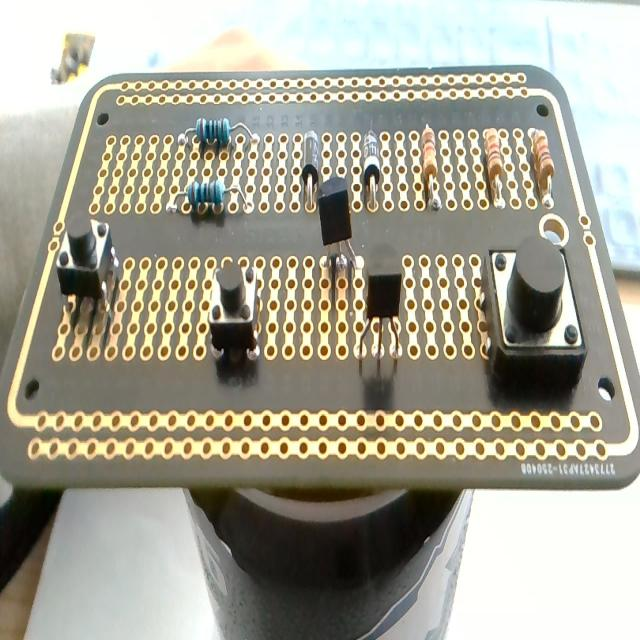diode: (300, 128, 322, 213), (362, 126, 382, 213)
resistor: (165, 175, 246, 214), (178, 117, 256, 155), (530, 128, 555, 208), (483, 126, 505, 209), (421, 124, 440, 211), (196, 117, 231, 149)
switch: (480, 232, 588, 387), (56, 213, 118, 316), (207, 260, 262, 362)
transistor: (357, 256, 405, 367), (316, 176, 358, 290)
